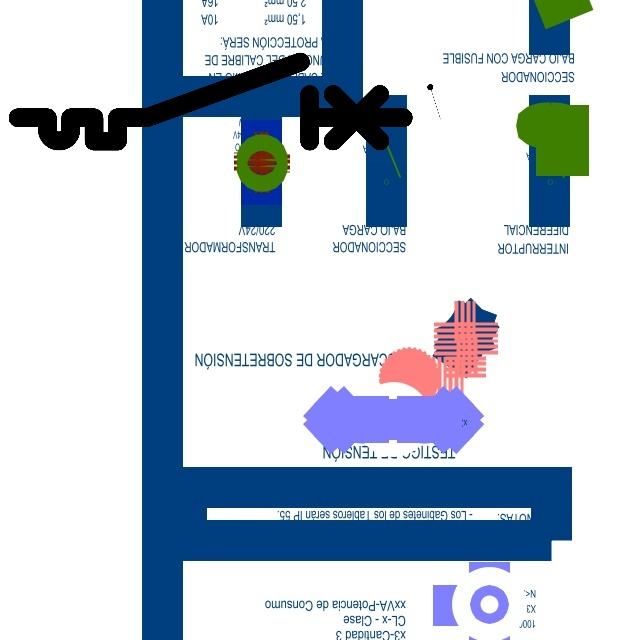interruptor_termomagnetico: (8, 52, 413, 151)
